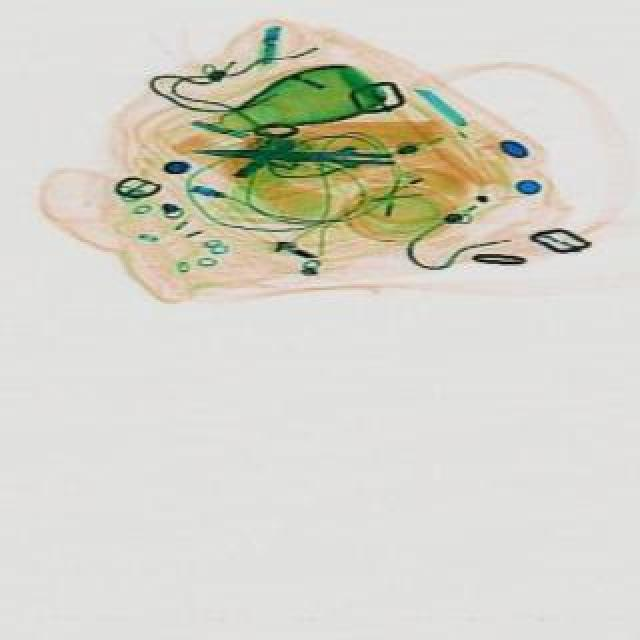knife: (200, 146, 402, 172)
